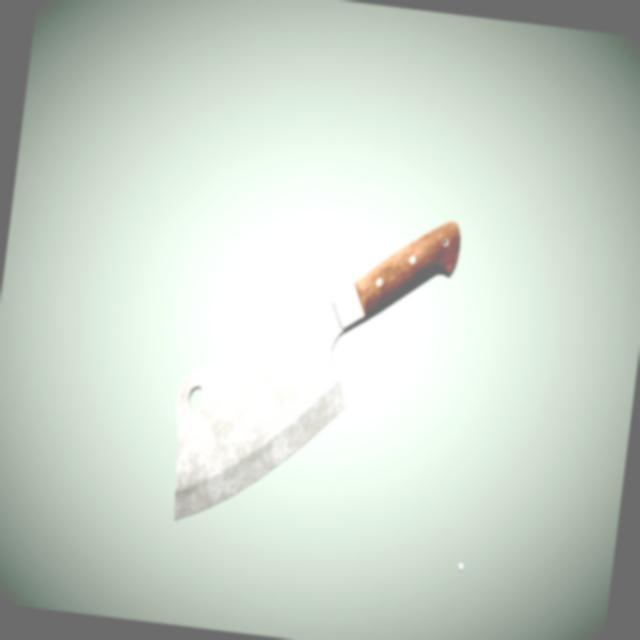cleaver: (164, 186, 466, 544)
